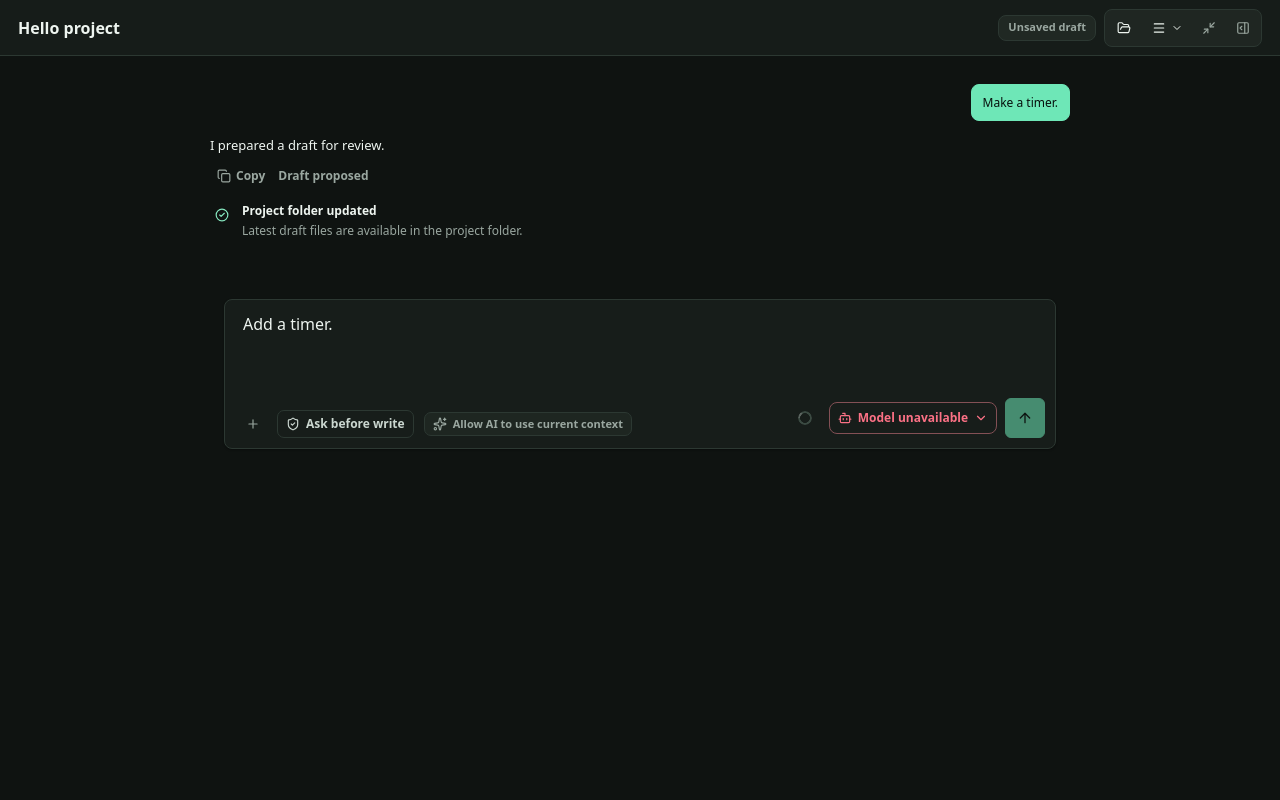
Test: BuilderPage v2 › shows the current AI context status in the permissions artifact tab without raw request details
Click the button named "Workspace menu" at (1167, 28), box [1144,12,1190,42]
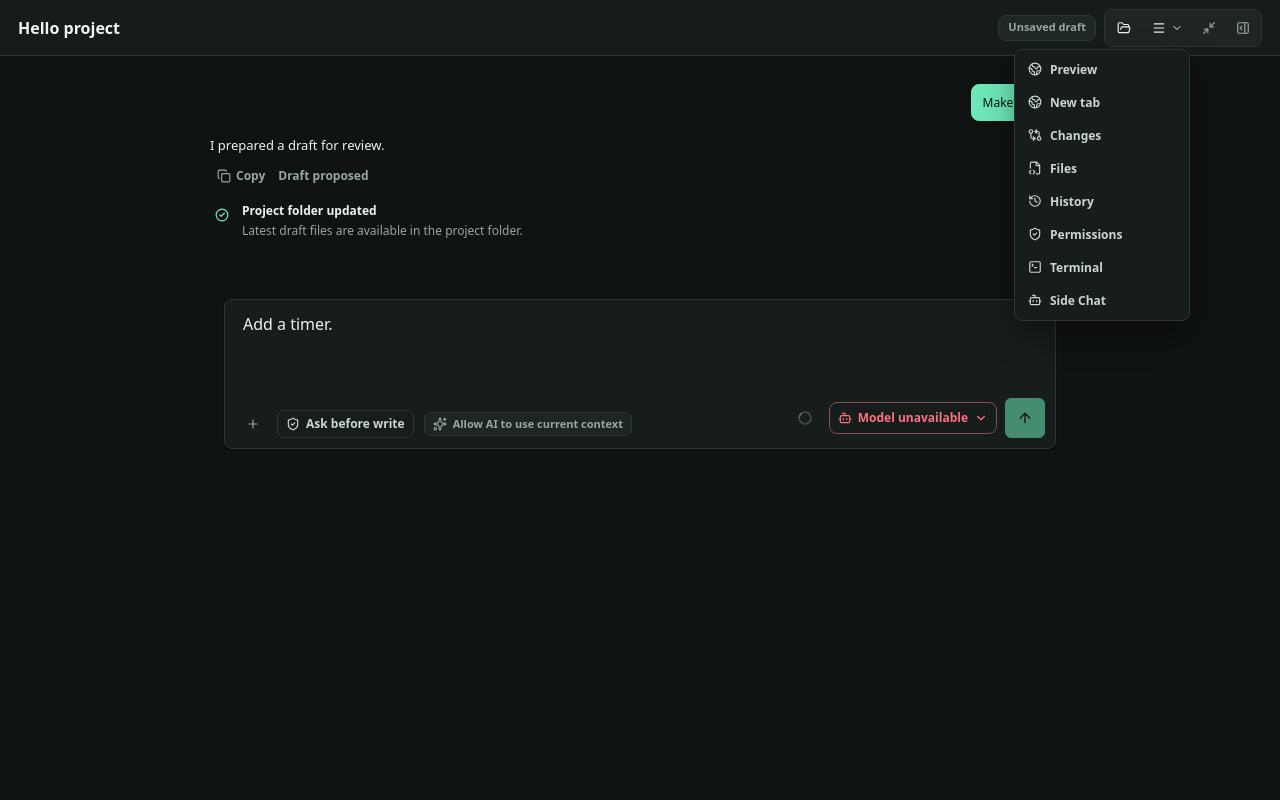
Check: the menu item "Permissions" is shown
Click the menu item "Permissions" at (1102, 234), box [1019,218,1185,250]
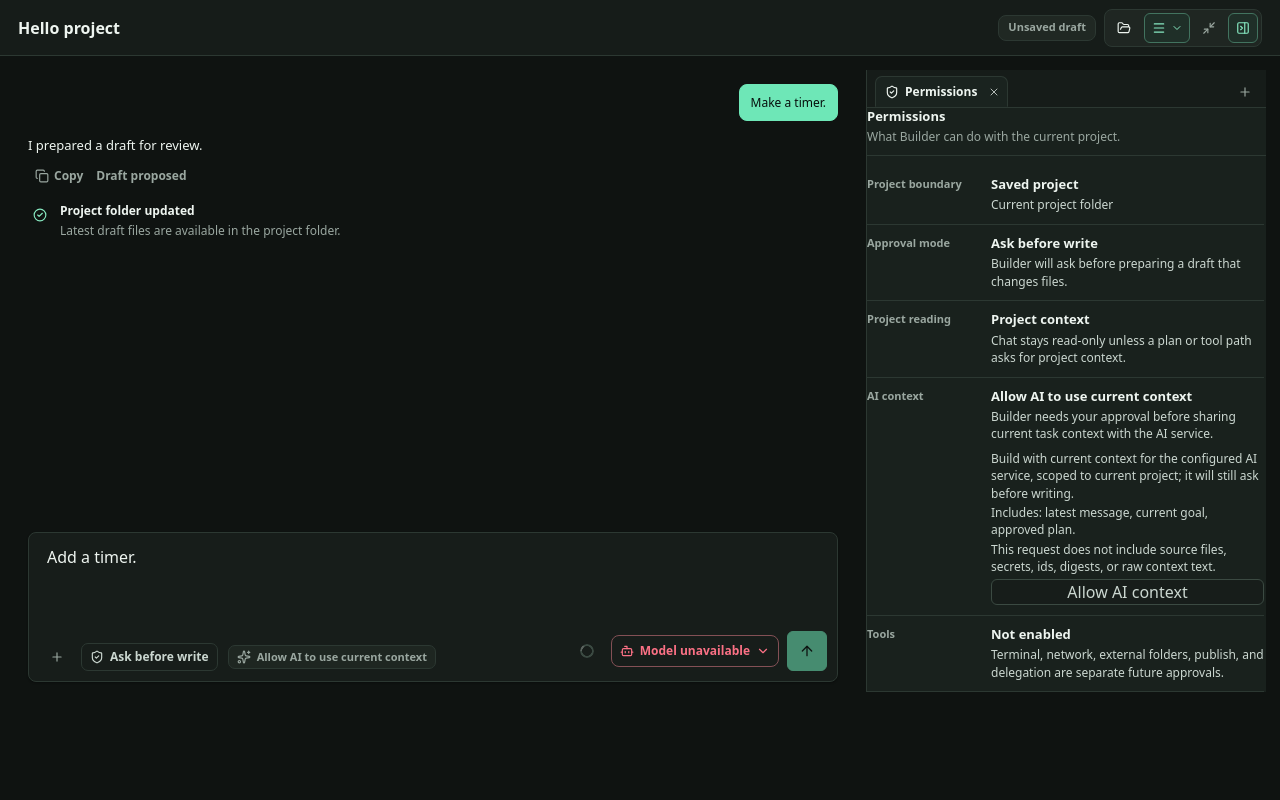
Check: the element that starts with "AI context" shows "Allow AI to use current context", box [991,386,1192,404]
Check: the element that starts with "AI context" shows "Builder needs your approval before sharing current task context with the AI service.", box [991,408,1236,442]
Check: the text "Build with current context for the configured AI service" is shown, box [991,450,1259,502]
